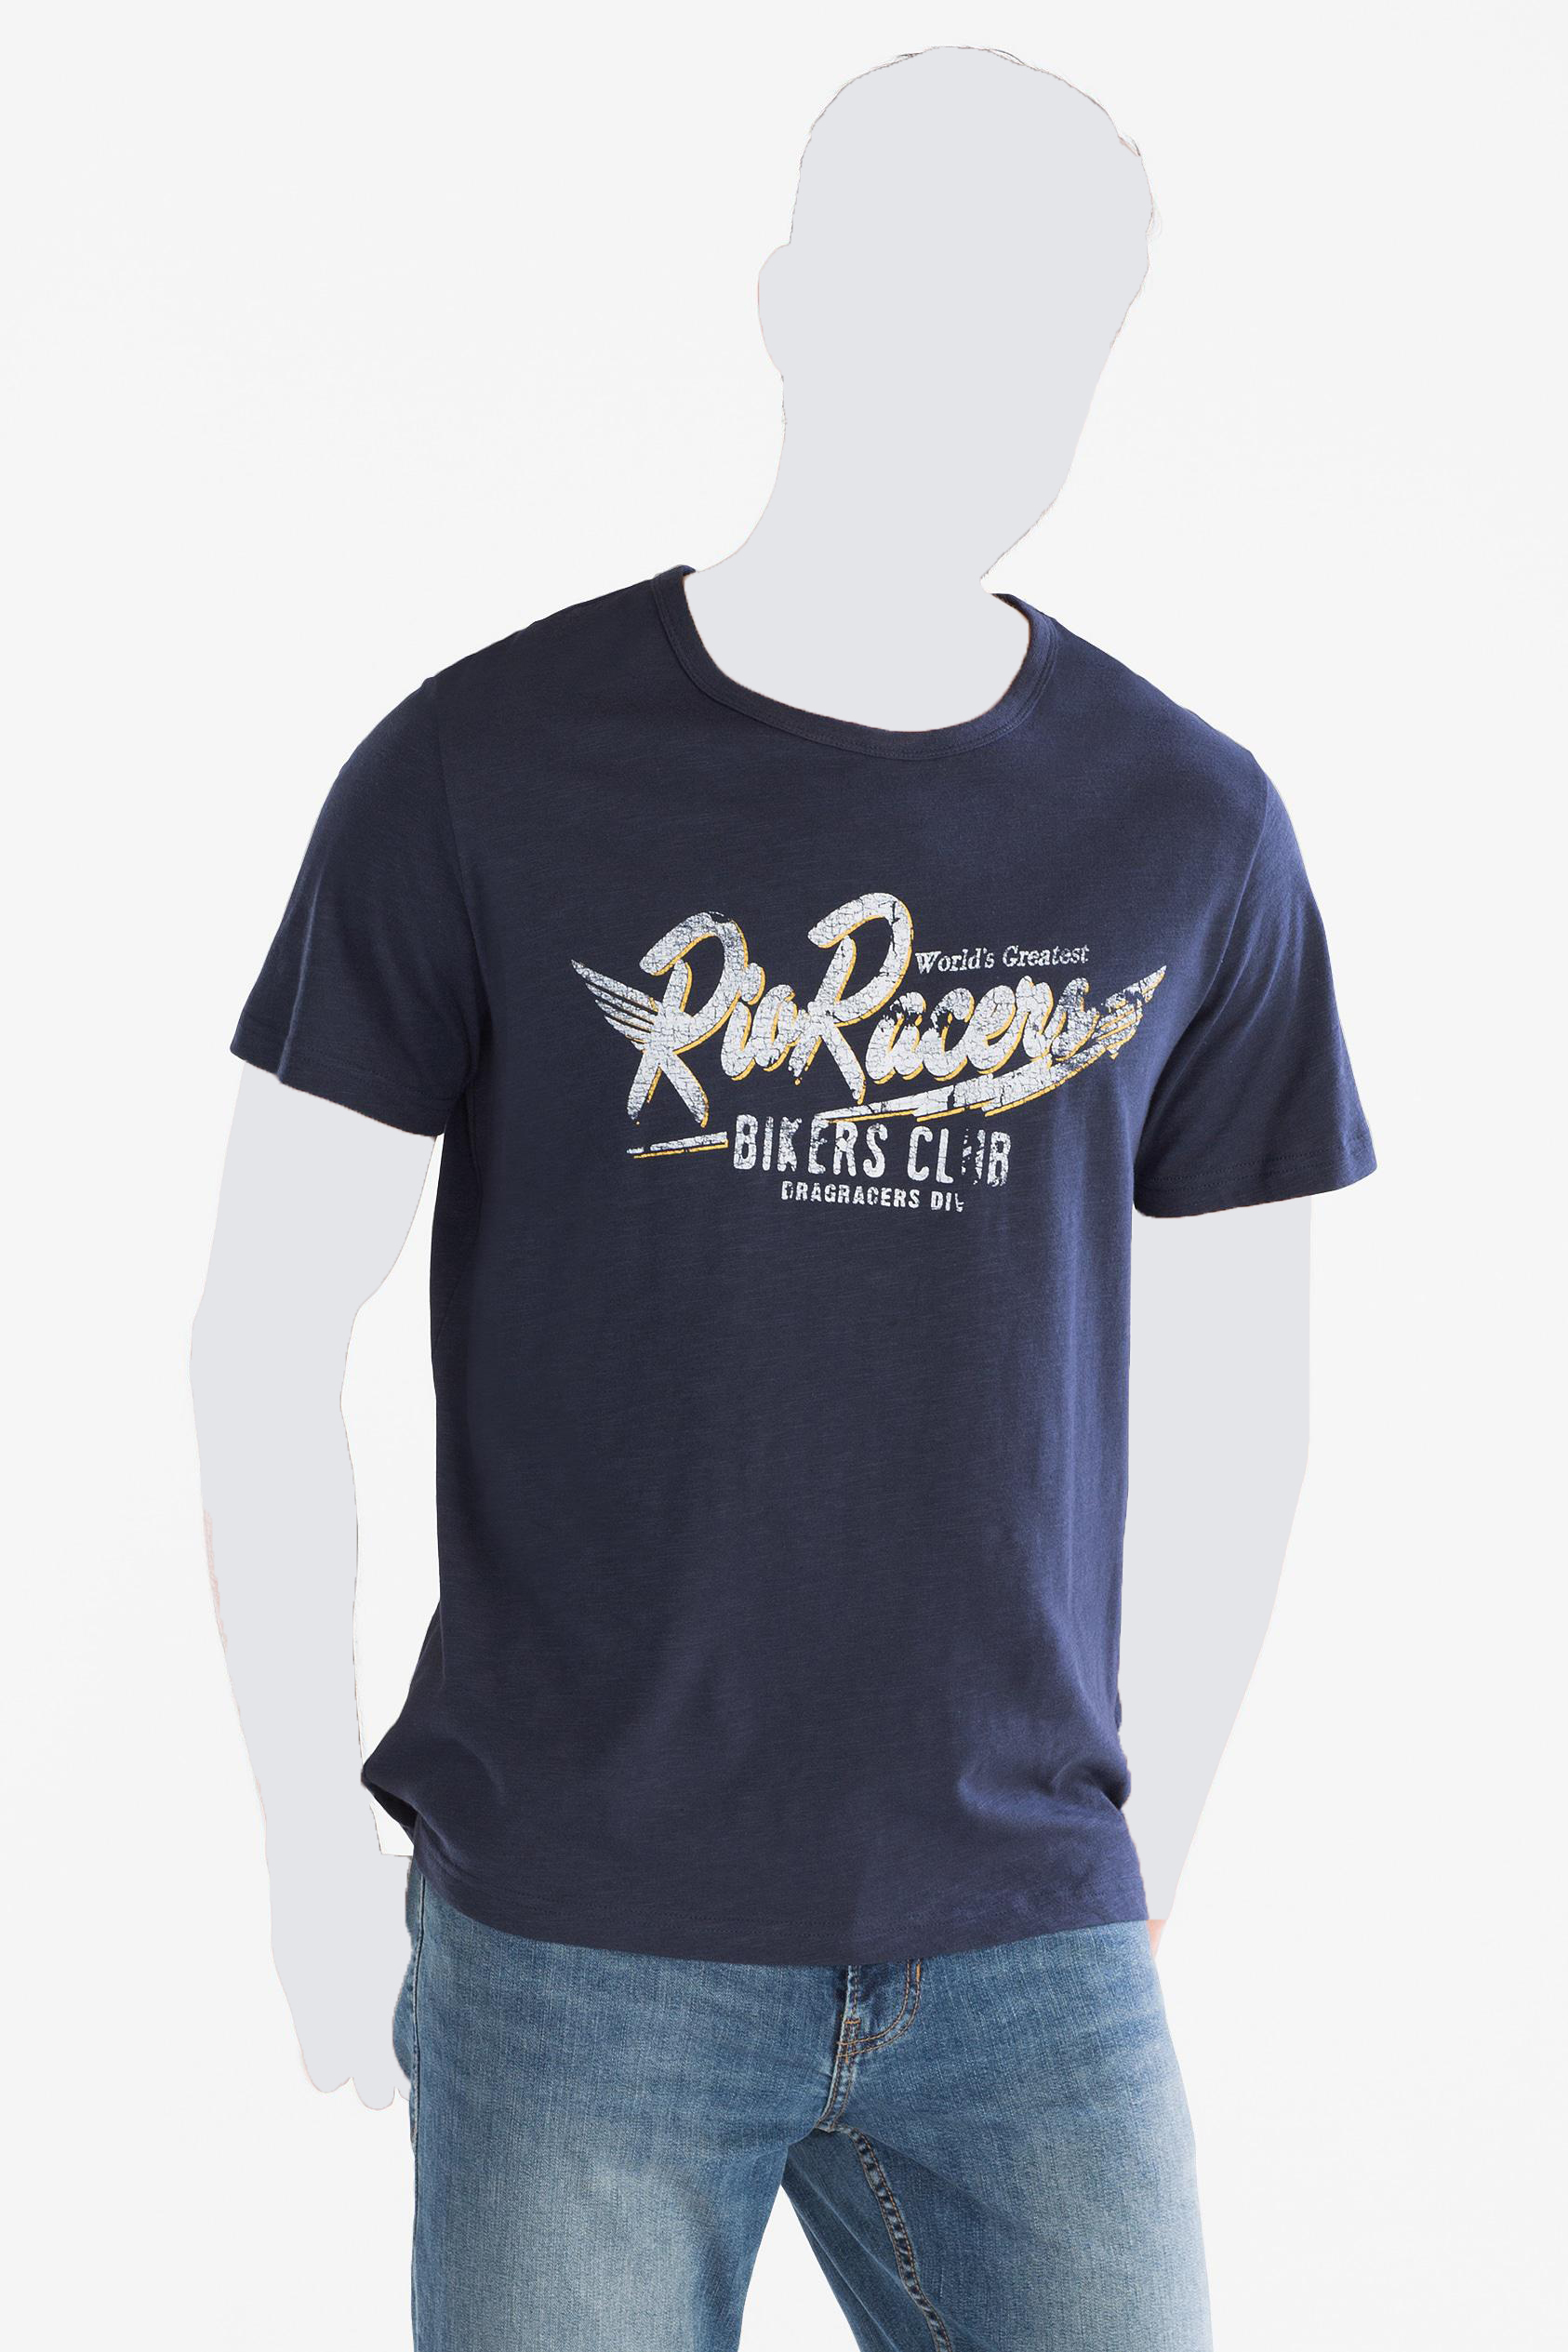teeshirt: (224, 549, 1400, 1944)
